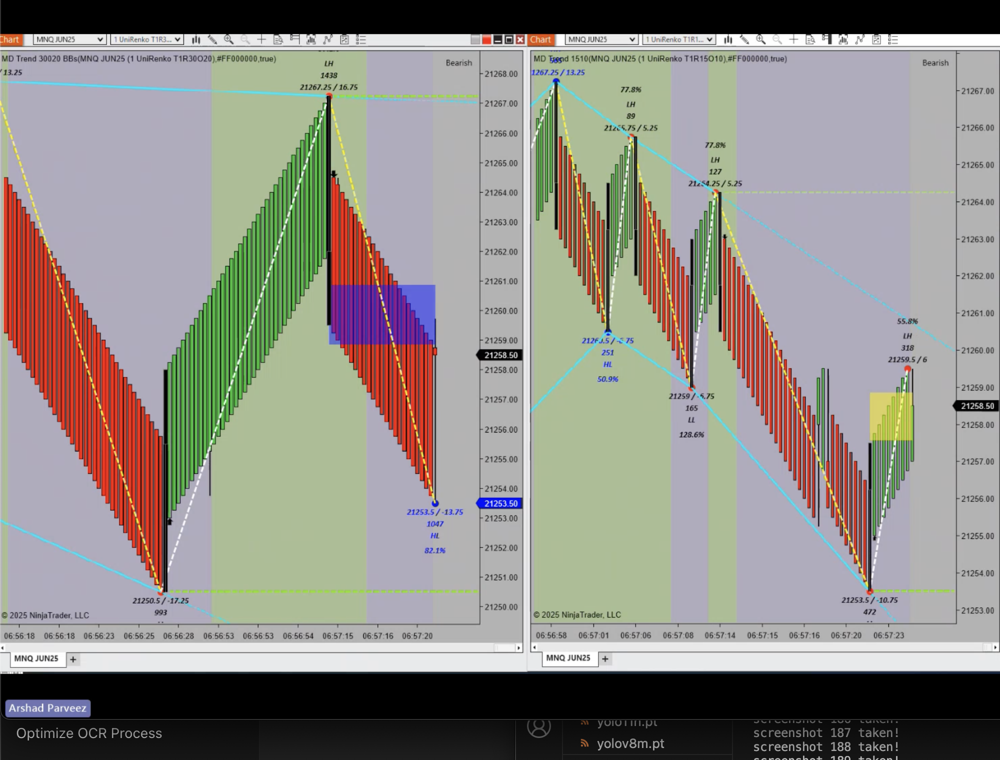HL: (424, 525, 451, 547)
LH: (316, 57, 349, 76), (899, 329, 926, 347), (704, 152, 729, 170), (622, 98, 641, 111)
LL: (681, 411, 706, 431)
